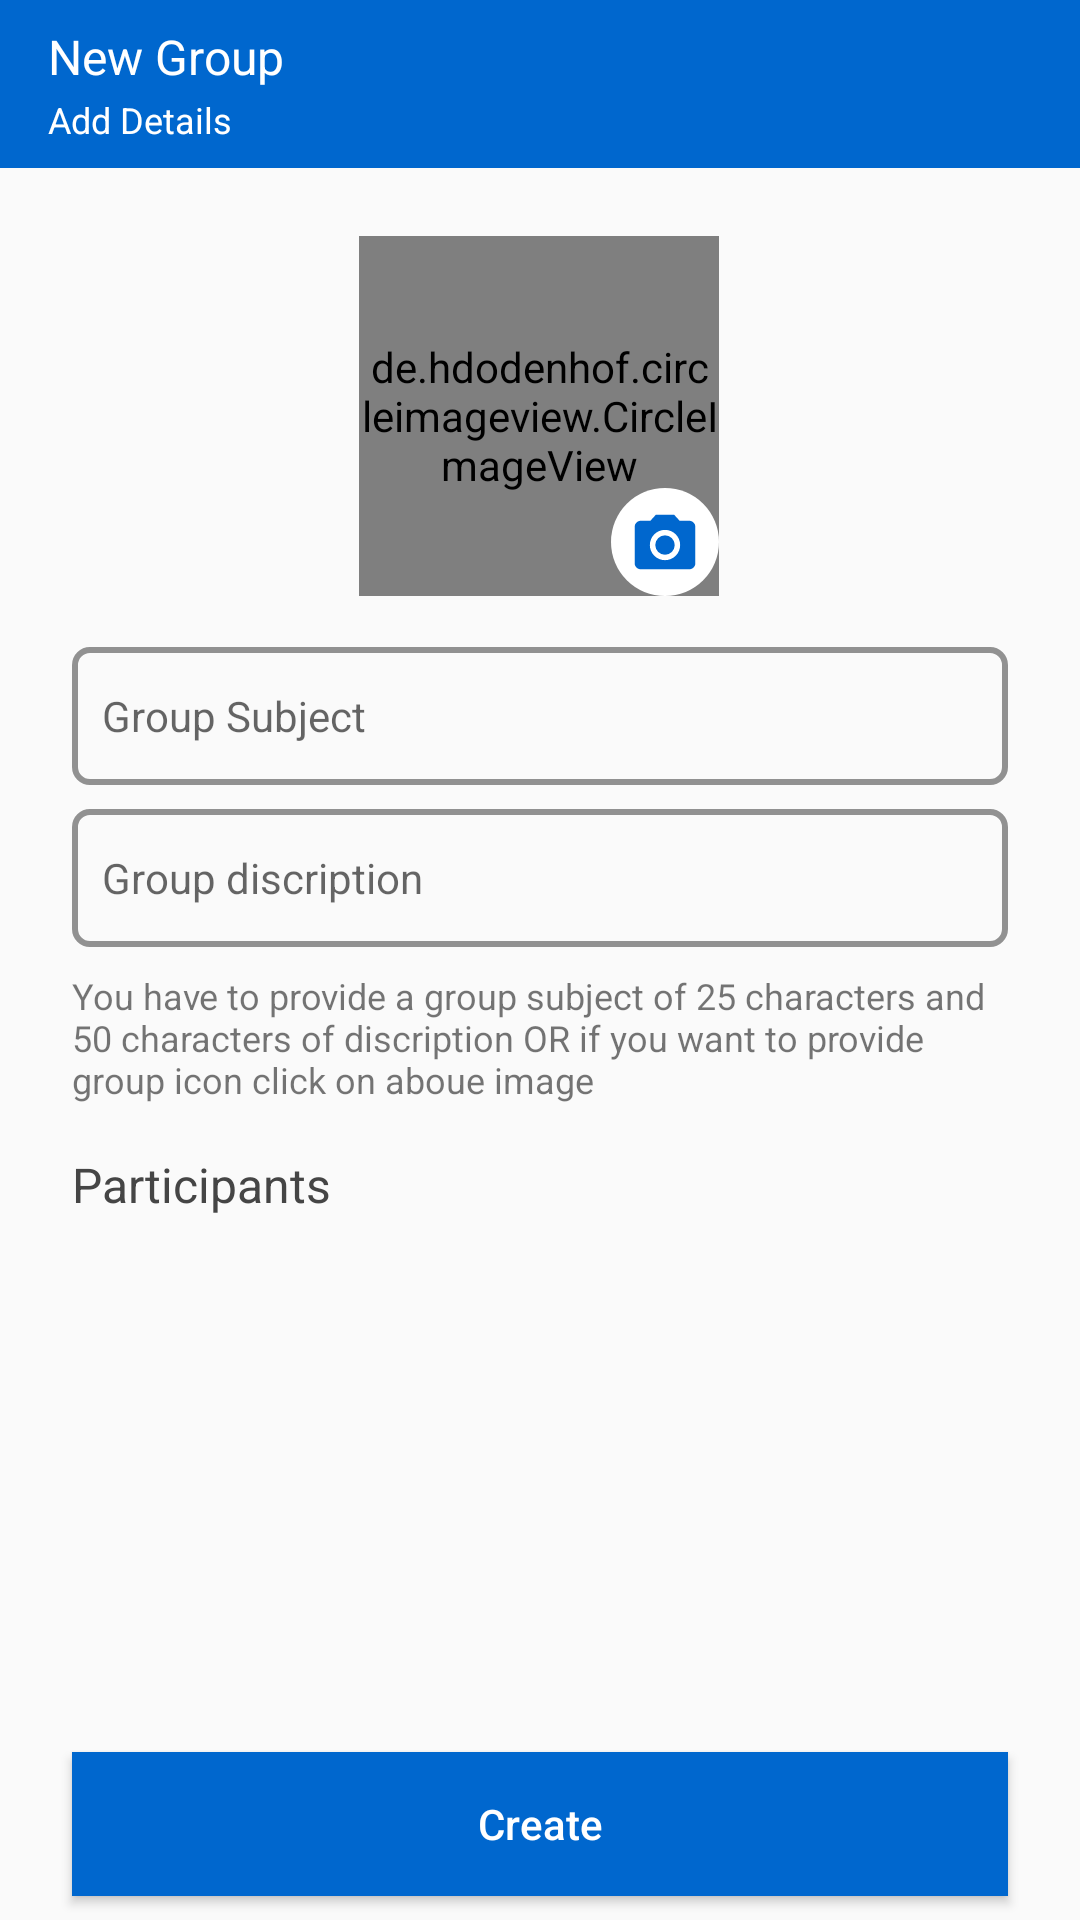

Where to tap for icons on this 1080px×1920px app screen, as [x,y]:
edit profile: [665,542]
